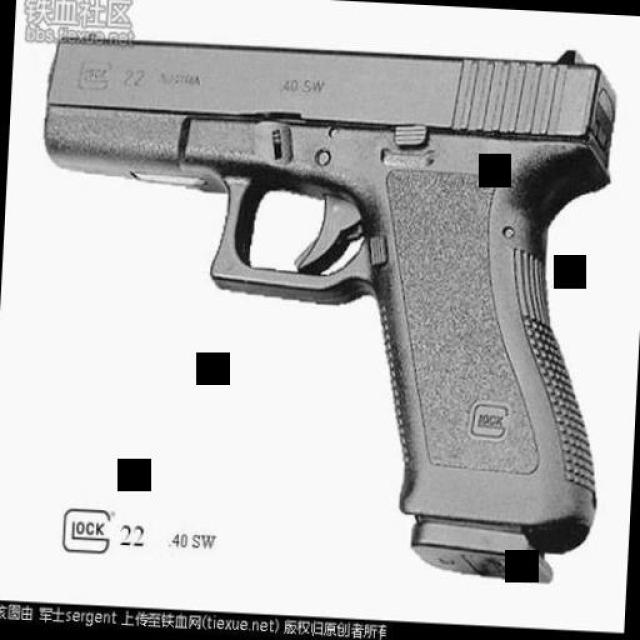gun: (19, 20, 618, 588)
